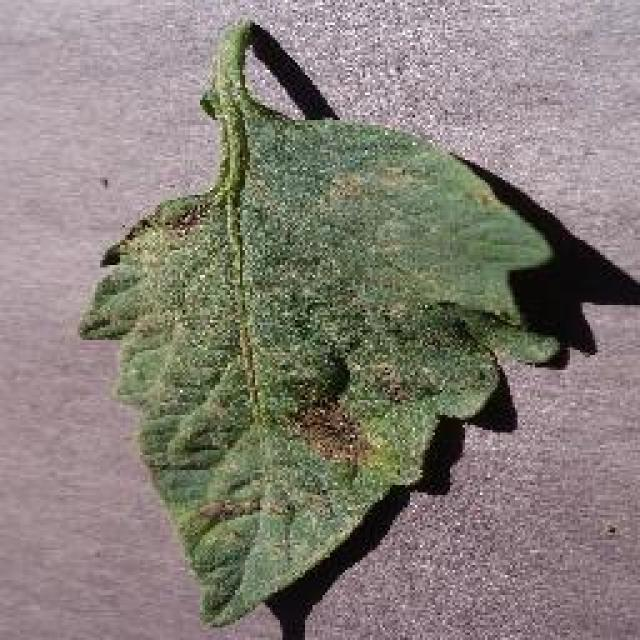Tomato___Early_blight: (73, 19, 566, 630)
